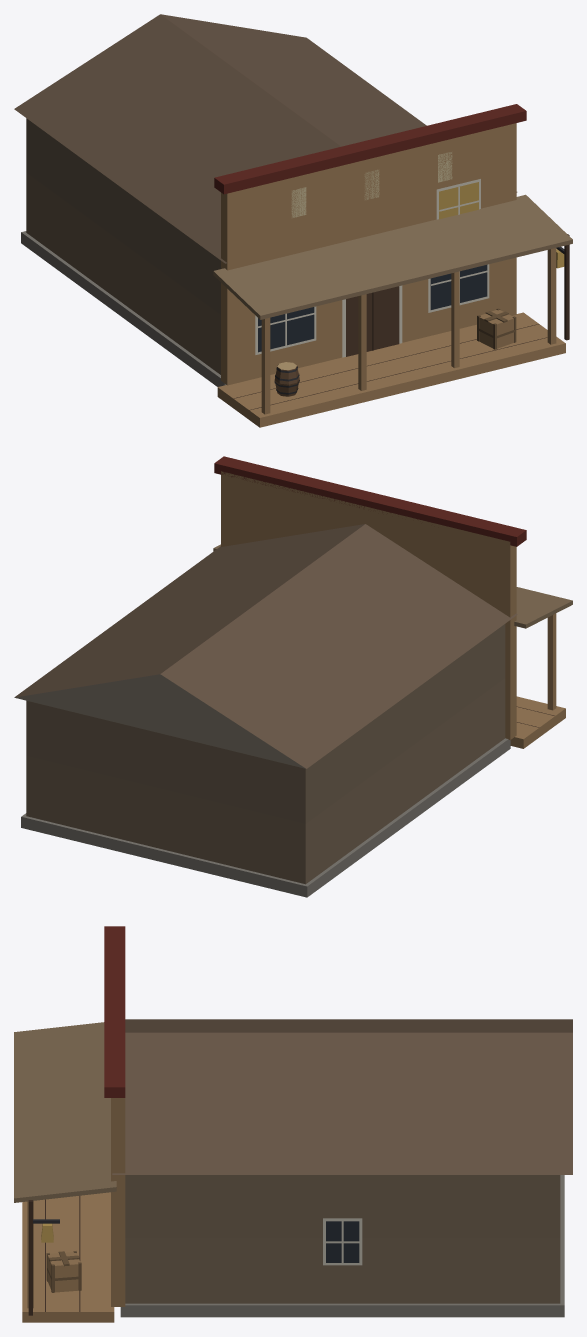
File: outfitter.glb
3 renders of one model, top to bottom at view 1: azimuth 30°, elevation 25°; view 2: azimuth 150°, elevation 25°; view 3: azimuth 270°, elevation 25°, orthographic. The views are drawn at different scales.
Parts seen in each view (by area): view 1: store; view 2: store; view 3: store.
Boxes of the visible parts, x1,y1,x2,y2 form: store: (14,14,572,427); store: (14,456,572,897); store: (14,926,572,1322).
Size of the model in its own units: 9.6 by 6.18 by 13.35.
